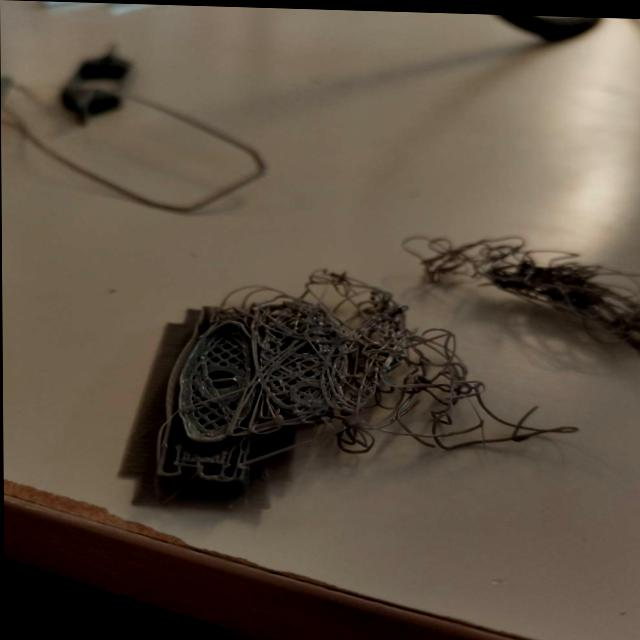spaghetti: (141, 260, 555, 541), (417, 212, 640, 352)
